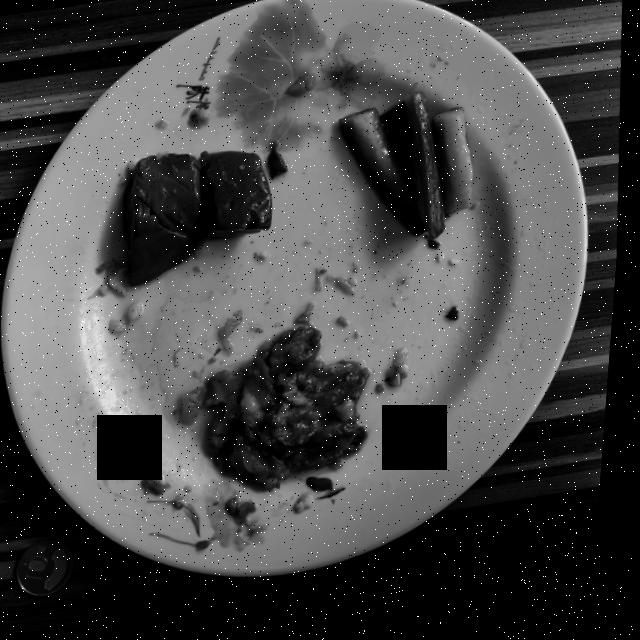Kabayaki sea bream fillet: (182, 331, 377, 495)
coin: (25, 541, 82, 598)
cucumber: (342, 99, 449, 249), (437, 116, 477, 221)
pig blood curd: (128, 155, 275, 289)
